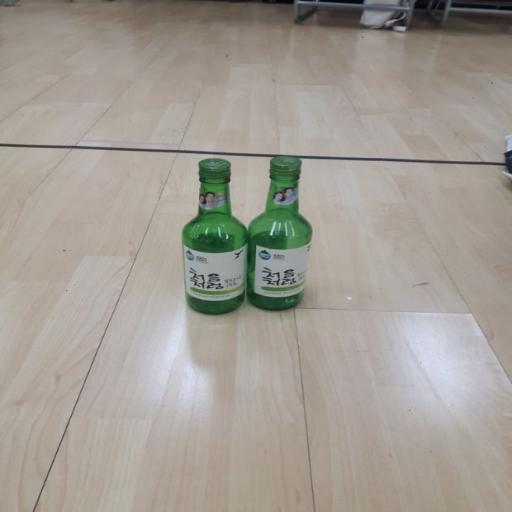glass: (246, 157, 312, 310), (182, 158, 247, 313)
